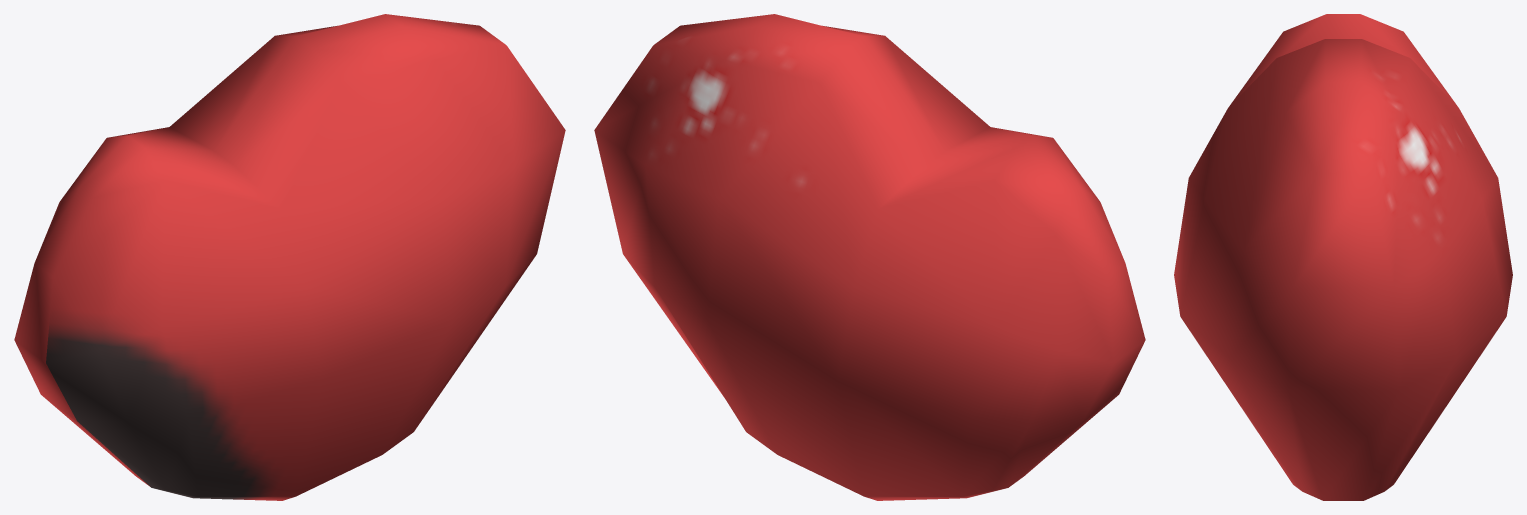
Rendered from HeartDeformed.fbx.
3 renders of one model, left to right at view 1: azimuth 30°, elevation 25°; view 2: azimuth 150°, elevation 25°; view 3: azimuth 270°, elevation 25°, orthographic. The views are drawn at different scales.
Visible parts, largest first — view 1: HeartDeformed; view 2: HeartDeformed; view 3: HeartDeformed.
Part boxes in pixels (x1=…): HeartDeformed: x1=14, y1=14, x2=565, y2=500; HeartDeformed: x1=594, y1=14, x2=1145, y2=500; HeartDeformed: x1=1174, y1=14, x2=1512, y2=500.
Bounding box in the file's own units: 98.67 × 81.89 × 55.09.
